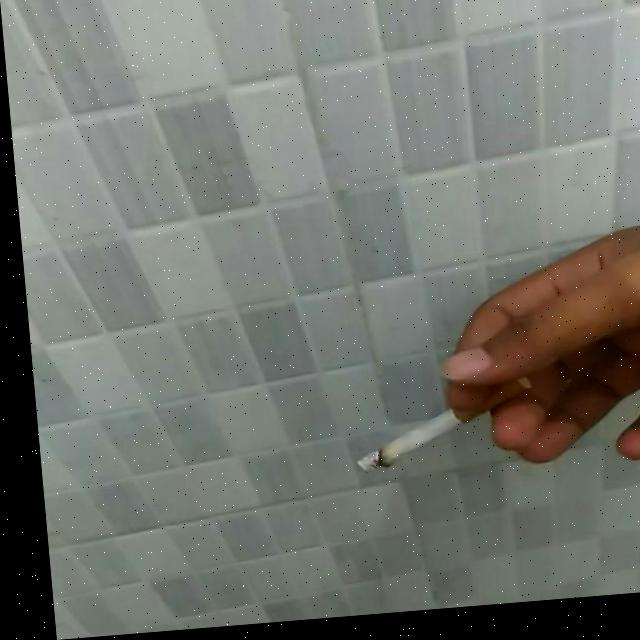cigarette: (343, 382, 526, 477)
